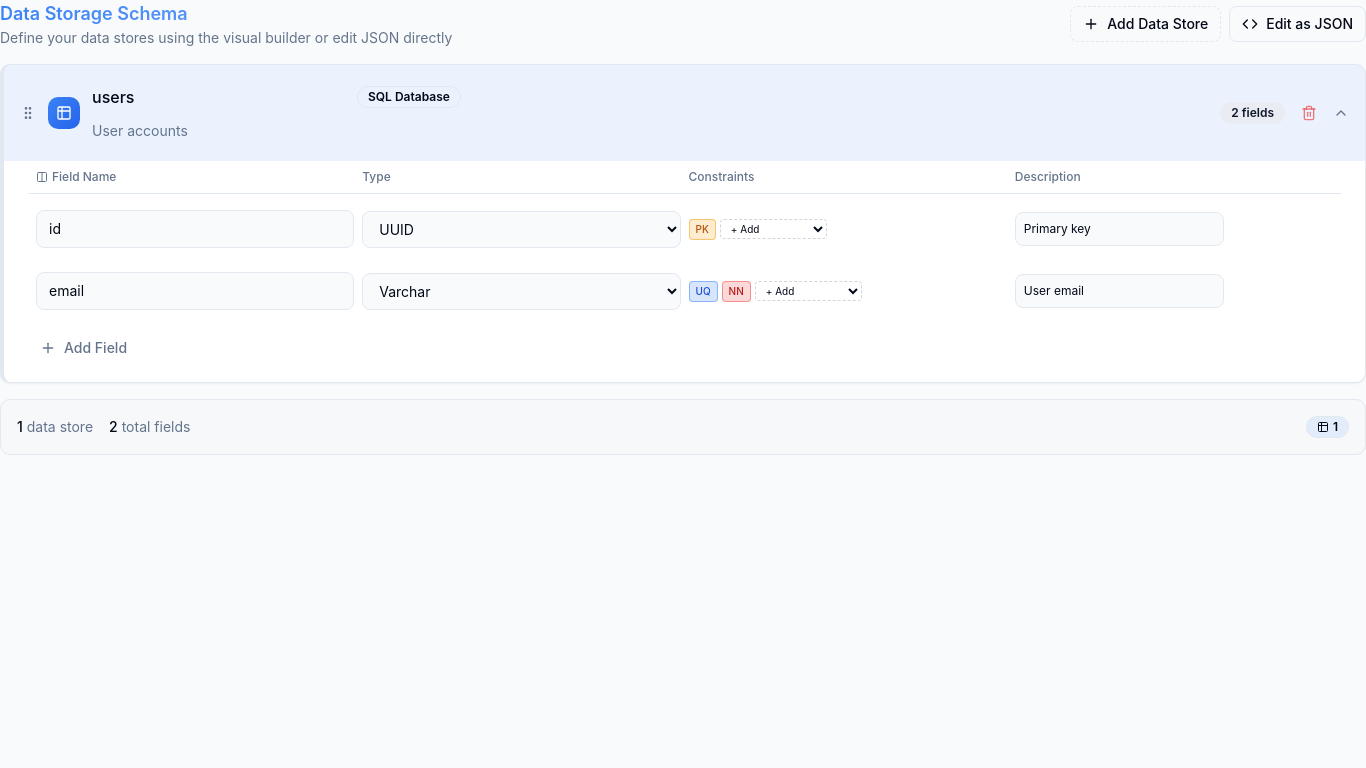
Test case: SchemaEditor › JSON Editor Toggle › shows JSON editor when Edit as JSON is clicked
What coordinates should you click on to do the following:
click the button "Edit as JSON"
I would click on:
 (1298, 24)
Its box is [1229, 6, 1365, 42].
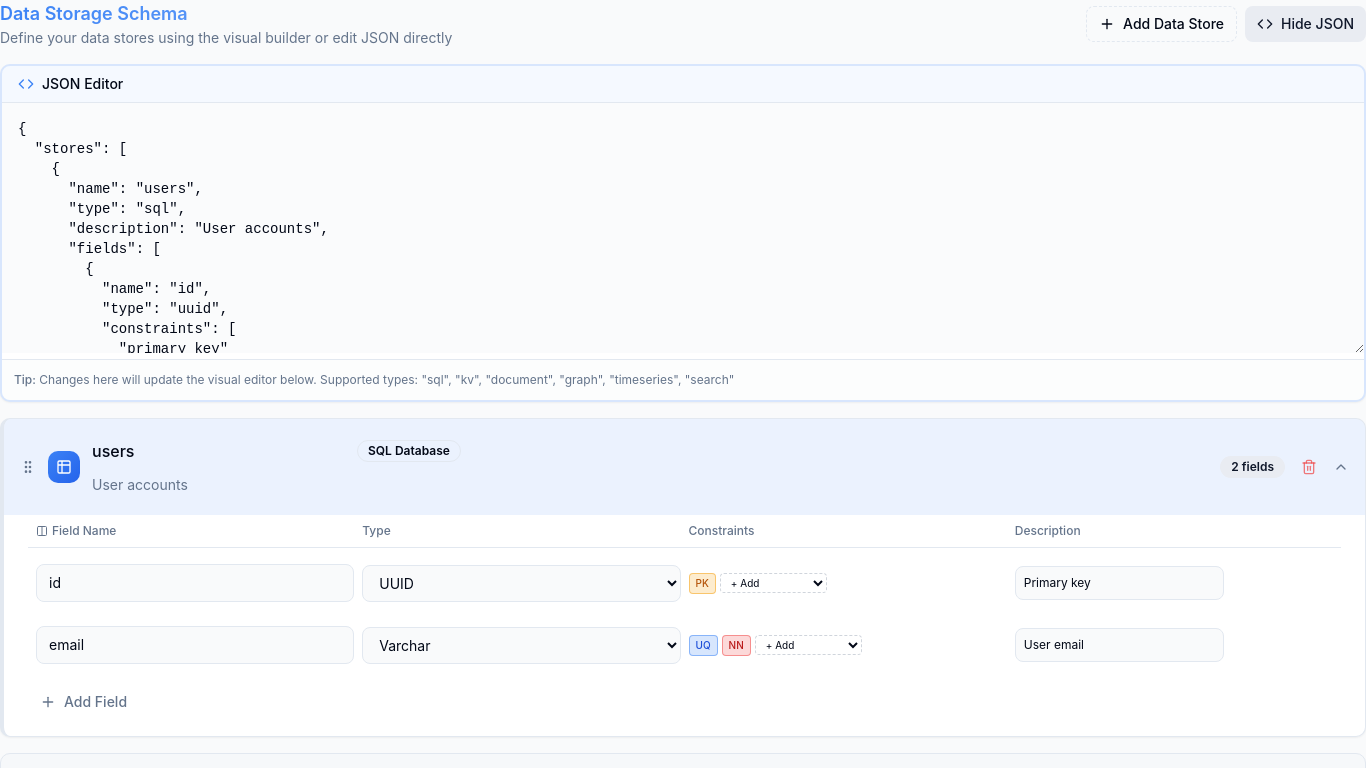
expect the text "JSON Editor" is shown: met, box [18, 74, 123, 94]
expect the button "Hide JSON" is shown: met, box [1245, 6, 1365, 42]
